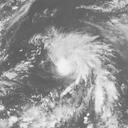cyclone: (45, 32, 103, 79)
